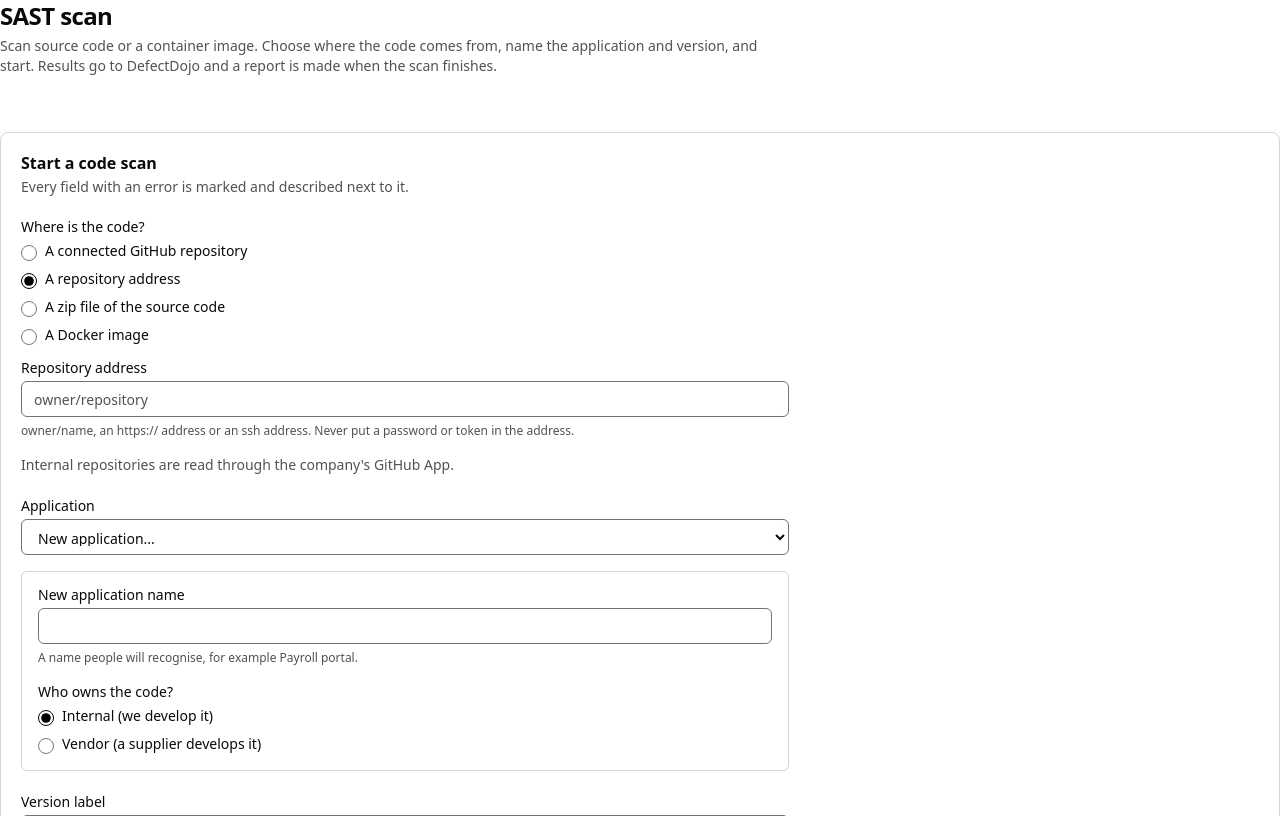
SastPage › shows the vendor access choices only for a vendor application
Expected: the text "Internal repositories are read through the company's GitHub App" is shown, [21,455,454,474]
Expected: the text "Access to the vendor's repository" is not shown
Select "Acme CRM (vendor)" in the dropdown labelled "Application". click: (405, 537)
box: [21,519,789,555]
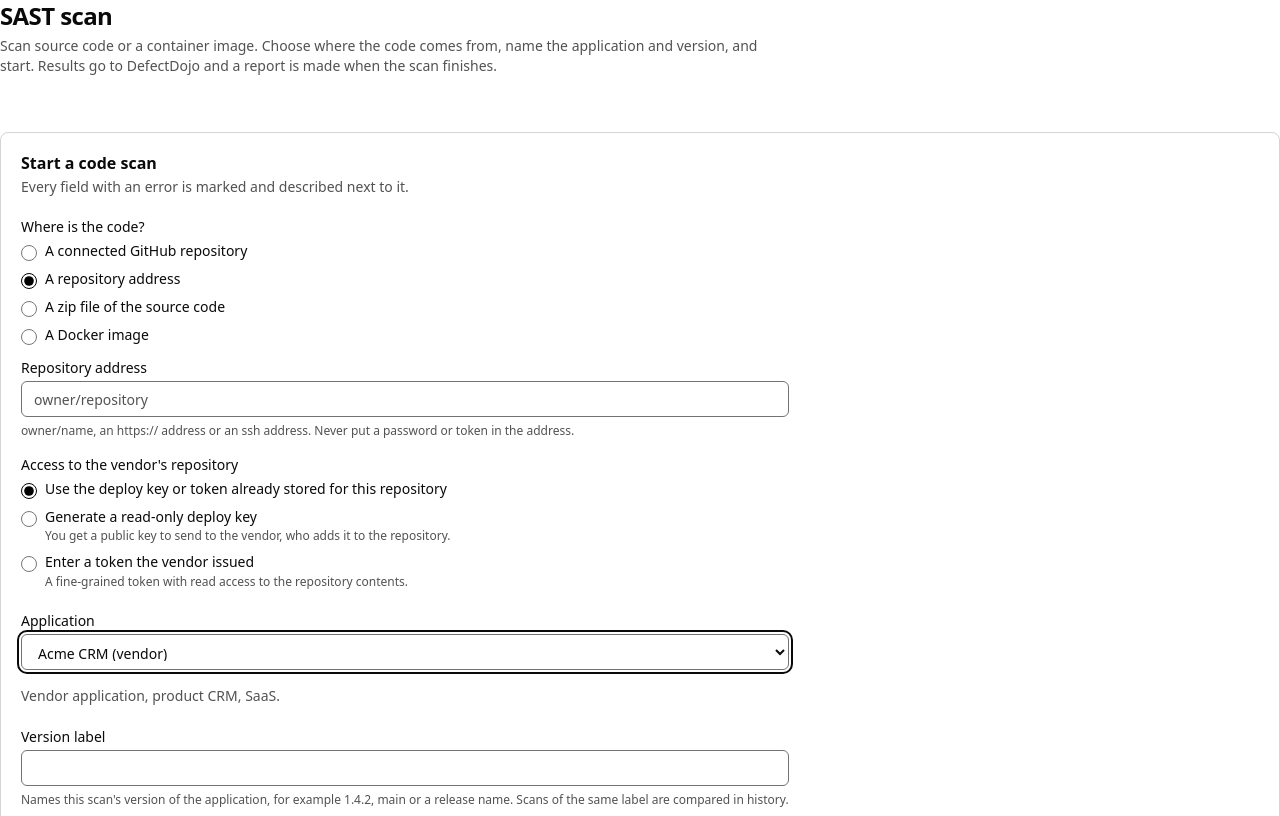
Expected: the field labelled "Vendor token" is not shown
Now the text "Access to the vendor's repository" is shown, box [21,455,238,475]
Now the radio button labelled "Generate a read-only deploy key" is shown, box [21,511,37,527]
Click the radio button labelled "Enter a token the vendor issued". click: (29, 564)
box: [21,556,37,572]
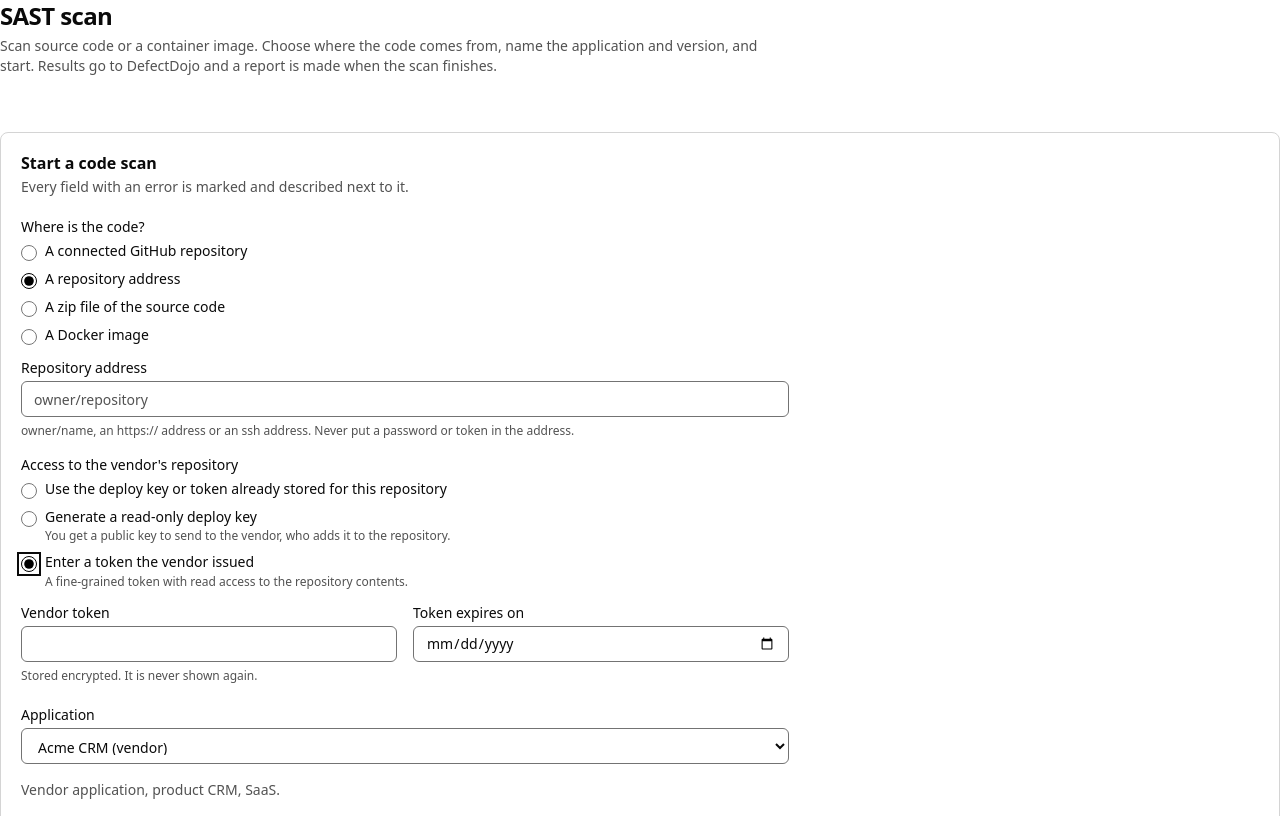
Now the date field labelled "Token expires on" is shown, box [413,626,789,662]
